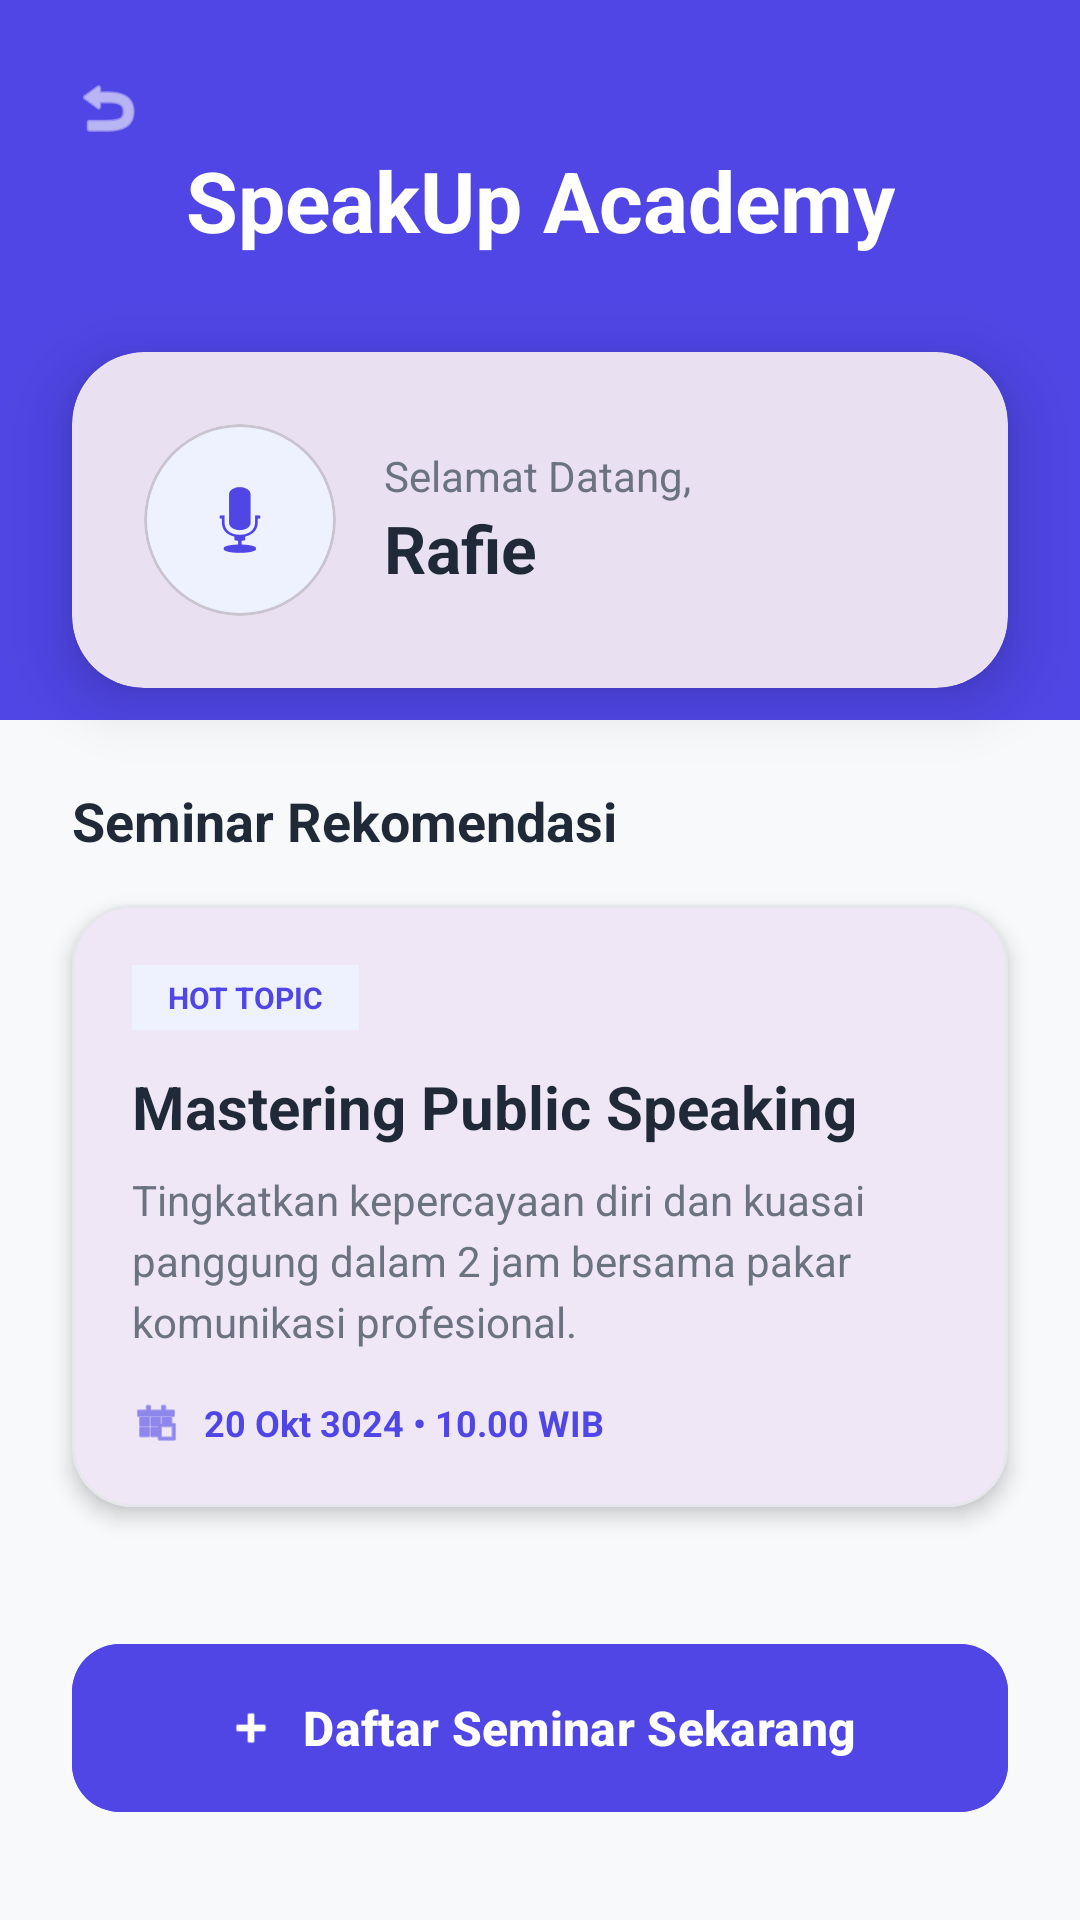

Named icons in this screenshot (1080*1920) and their centers, point (x, y):
revert: point (109, 108)
speak now: point (240, 520)
today: point (156, 1423)
